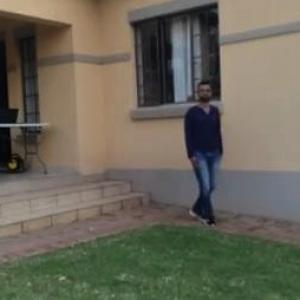follow: (173, 73, 220, 232)
